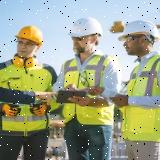Helmet: (117, 19, 160, 43), (66, 15, 104, 38), (14, 24, 44, 48)
Vest: (0, 58, 61, 134), (63, 53, 114, 126), (119, 52, 159, 142)
